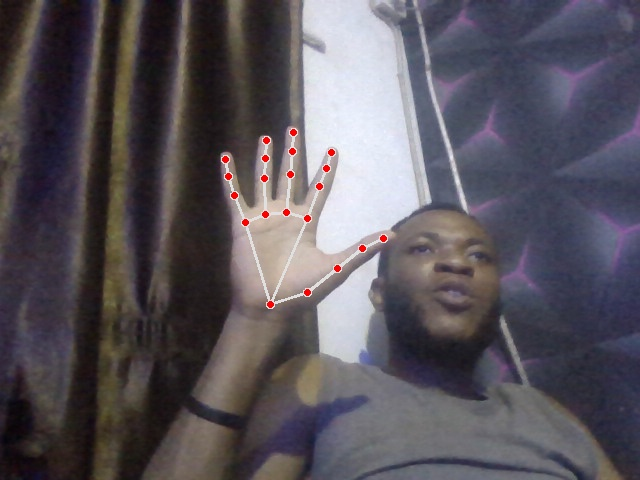no: (218, 124, 395, 320)
